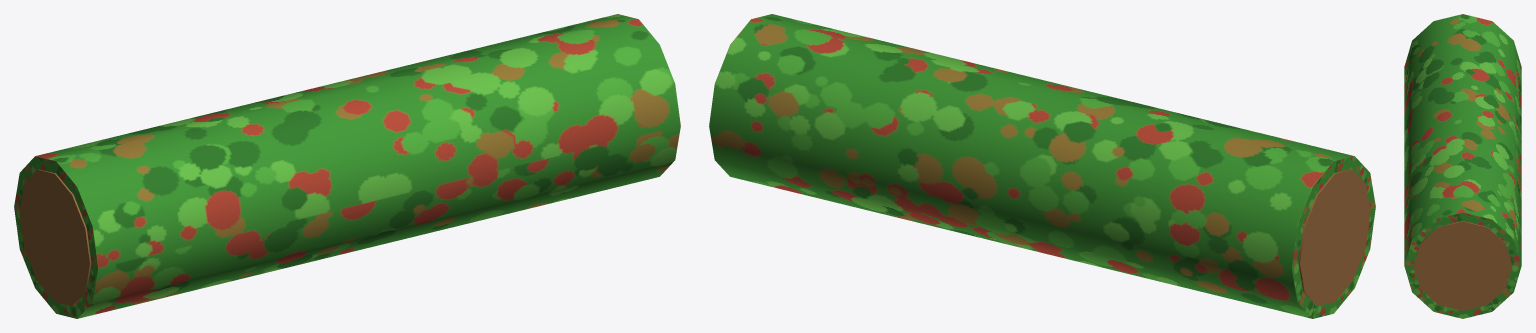
The model's file is mossy_log.glb.
3 renders of one model, left to right at view 1: azimuth 30°, elevation 25°; view 2: azimuth 150°, elevation 25°; view 3: azimuth 270°, elevation 25°, orthographic. The views are drawn at different scales.
Parts seen in each view (by area): view 1: mossy_log; view 2: mossy_log; view 3: mossy_log.
Boxes of the visible parts, x1=… form: mossy_log: x1=14, y1=14, x2=680, y2=318; mossy_log: x1=709, y1=14, x2=1375, y2=318; mossy_log: x1=1404, y1=14, x2=1521, y2=318.
Bounding box in the file's own units: 4.02 × 1 × 1.
2 materials, 1 textured.
